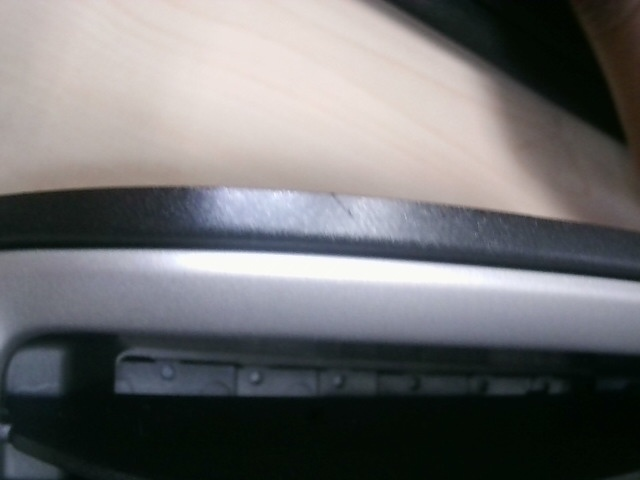NG: (320, 186, 363, 226)
